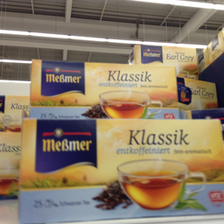tea: (19, 118, 223, 224), (28, 58, 180, 119)
